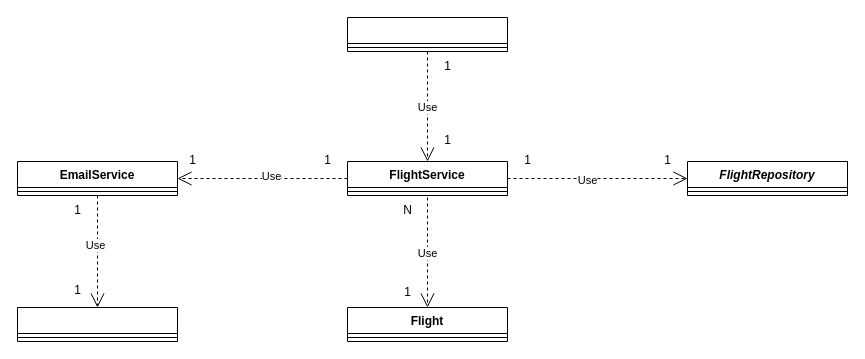
The diagram is 865 pixels wide and 359 high, and some of its shapes have lost their labels. The centre of each missing label's shape, as x and y in pixels:
EmailBody: (97,324)
FlightController: (427,34)
